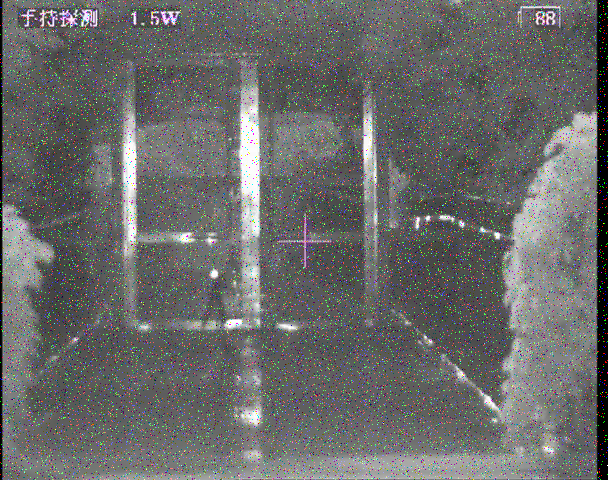my: (209, 268, 220, 279)
